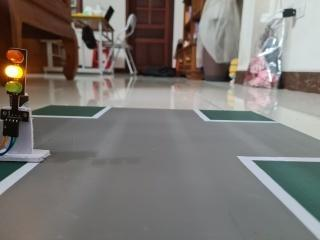yellow: (0, 35, 34, 107)
